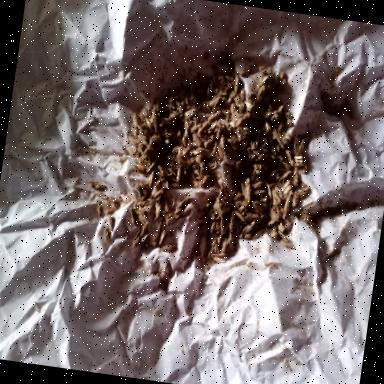pbw: (150, 215, 162, 248), (270, 129, 288, 148), (251, 138, 268, 158), (152, 194, 164, 222), (292, 134, 306, 158), (215, 134, 227, 160), (227, 103, 240, 127), (274, 154, 292, 171), (136, 193, 155, 209), (250, 200, 268, 216), (158, 240, 176, 256), (262, 222, 278, 240), (164, 210, 180, 227), (267, 207, 281, 226), (145, 154, 158, 174), (174, 194, 190, 210), (130, 112, 142, 133), (148, 111, 160, 132), (164, 108, 178, 126), (206, 157, 222, 172), (206, 108, 220, 125), (210, 252, 228, 265), (149, 186, 164, 201), (156, 164, 170, 180), (242, 218, 256, 234), (204, 78, 214, 100), (283, 190, 292, 214), (232, 210, 247, 224), (130, 229, 140, 250), (88, 181, 107, 192), (174, 154, 190, 167), (170, 168, 183, 184), (134, 203, 150, 216), (282, 149, 294, 166), (270, 189, 282, 205), (272, 186, 286, 199), (139, 220, 149, 238), (291, 166, 300, 186), (106, 215, 116, 232), (182, 106, 196, 118), (252, 226, 264, 240), (196, 146, 211, 157), (127, 207, 136, 225), (198, 174, 208, 190), (263, 184, 273, 200), (278, 238, 294, 248), (213, 233, 221, 253), (182, 202, 192, 218), (166, 94, 176, 110), (210, 249, 226, 259), (136, 212, 148, 225), (191, 132, 202, 146), (94, 200, 103, 216), (276, 230, 288, 242), (227, 232, 235, 250), (291, 190, 299, 208), (136, 134, 148, 146), (266, 217, 278, 229), (211, 88, 227, 97), (158, 228, 166, 246), (249, 180, 262, 191), (280, 179, 290, 193), (219, 216, 226, 236), (208, 95, 218, 109), (232, 72, 239, 92), (220, 237, 228, 254), (150, 231, 158, 248), (207, 119, 216, 134), (94, 191, 107, 201), (282, 182, 292, 195), (138, 231, 148, 244), (129, 124, 139, 137), (175, 130, 183, 146), (209, 218, 217, 234), (228, 211, 234, 232), (136, 158, 144, 172), (134, 184, 142, 198), (281, 169, 292, 179), (127, 134, 139, 143), (170, 144, 180, 154), (188, 149, 199, 158), (263, 121, 272, 132), (207, 245, 214, 259), (251, 188, 263, 196), (159, 117, 172, 124), (282, 110, 292, 119), (293, 155, 303, 163), (169, 182, 180, 188), (142, 190, 148, 196)
